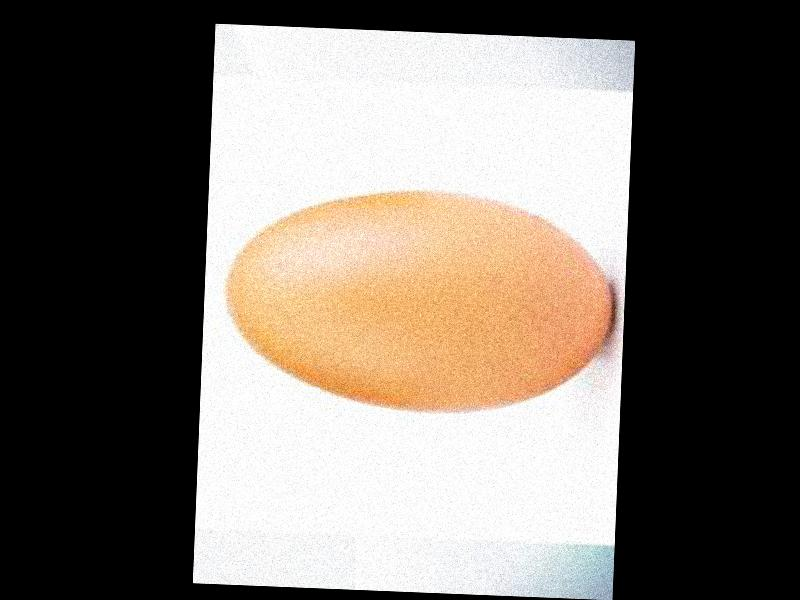Eggs: (222, 183, 616, 419)
